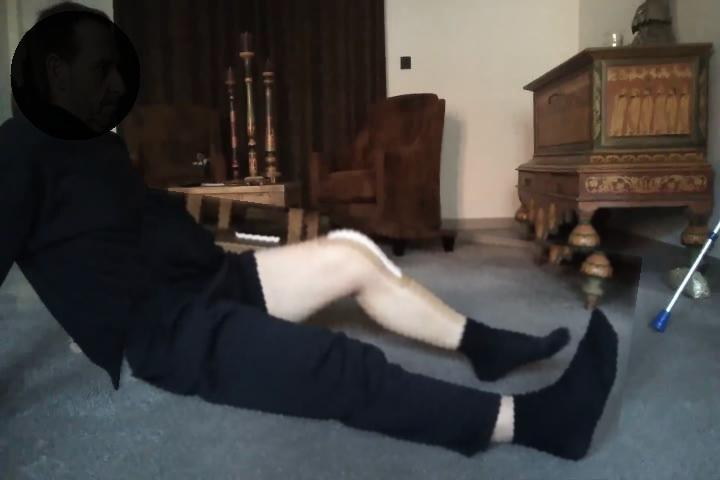lowerbody: (121, 205, 636, 478)
